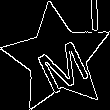M_NW: (26, 26, 89, 91)
